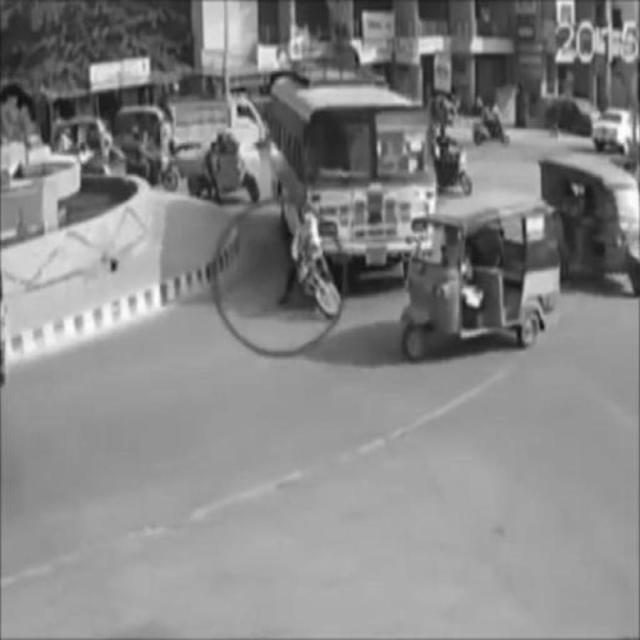accident: (271, 75, 435, 318)
vehicle: (403, 202, 557, 360), (539, 156, 640, 297), (179, 122, 260, 205)
